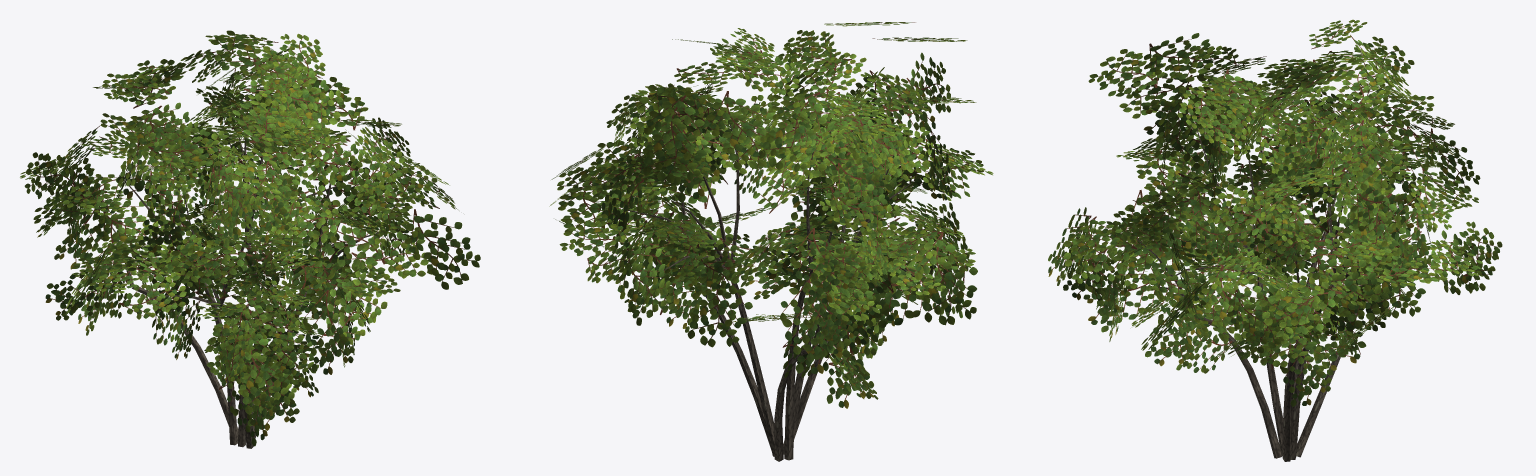
File: tr_bush_b.glb
3 views of the same model, side by side, from view 1: azimuth 30°, elevation 25°; view 2: azimuth 150°, elevation 25°; view 3: azimuth 270°, elevation 25° (orthographic). The views are drawn at different scales.
Parts seen in each view (by area): view 1: tr_bush_b; view 2: tr_bush_b; view 3: tr_bush_b.
Part boxes in pixels (box(x1,y1,x2,y2)): tr_bush_b: box(20, 30, 480, 448); tr_bush_b: box(549, 22, 993, 461); tr_bush_b: box(1048, 19, 1502, 461).
Size of the model in its own units: 6.13 by 5.6 by 5.9.
2 materials, 2 textured.
